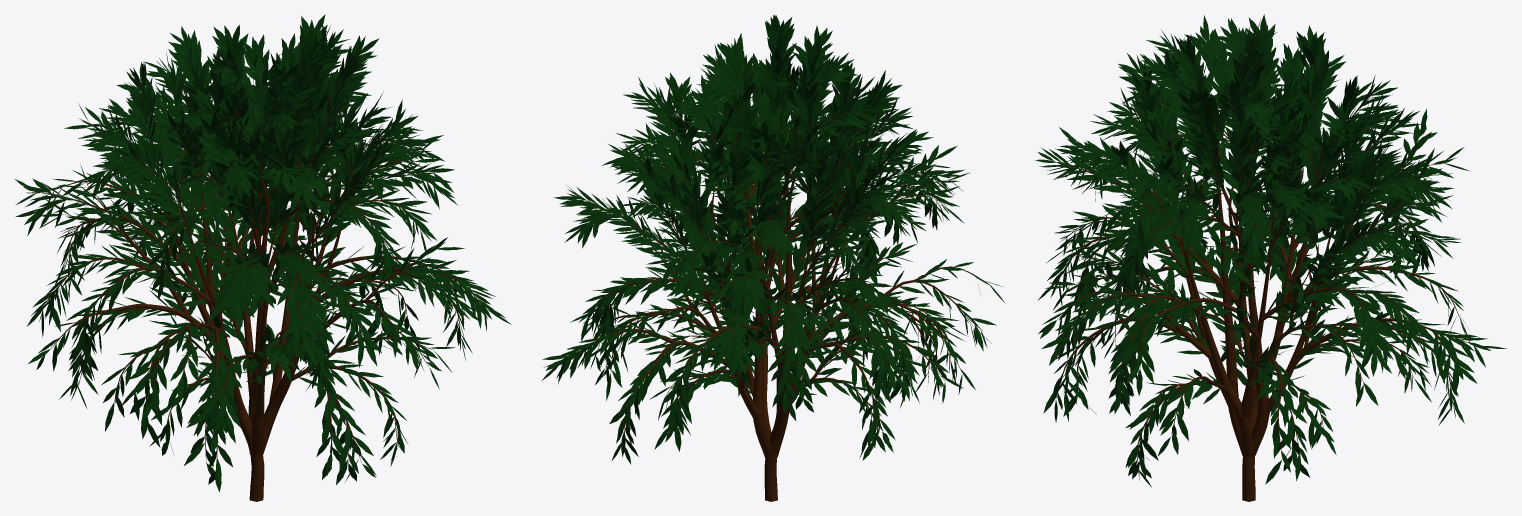
File: arvore02.fbx
3 renders of one model, left to right at view 1: azimuth 30°, elevation 25°; view 2: azimuth 150°, elevation 25°; view 3: azimuth 270°, elevation 25°, orthographic. The views are drawn at different scales.
Visible parts, largest first — view 1: leaves, tree; view 2: leaves, tree; view 3: leaves, tree.
Boxes of the visible parts, box(x1,y1,x2,y2) form: leaves: box(15, 14, 511, 492); tree: box(35, 49, 486, 501); leaves: box(542, 14, 1005, 464); tree: box(563, 75, 978, 501); leaves: box(1035, 14, 1506, 487); tree: box(1056, 42, 1470, 501).
Size of the model in its own units: 583 by 683 by 613.
